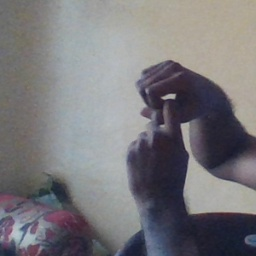Q: (117, 55, 218, 194)
